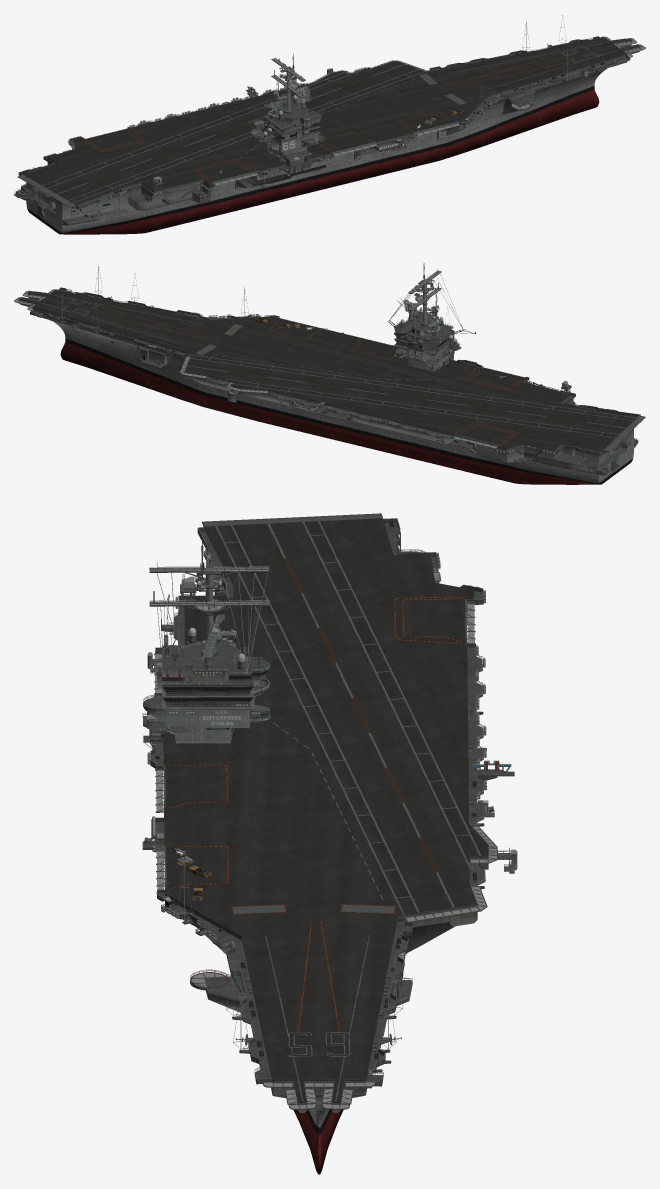
The model's file is us-enterprise.glb.
3 renders of one model, top to bottom at view 1: azimuth 30°, elevation 25°; view 2: azimuth 150°, elevation 25°; view 3: azimuth 270°, elevation 25°, orthographic. The views are drawn at different scales.
Visible parts, largest first — view 1: root; view 2: root; view 3: root.
Part boxes in pixels (left/top/right/bottom): root: left=14, top=15, right=645, bottom=234; root: left=14, top=263, right=645, bottom=484; root: left=142, top=513, right=517, bottom=1174.
Bounding box in the file's own units: 342 × 84.12 × 91.69.
Materials: 11 (9 with a texture image).
